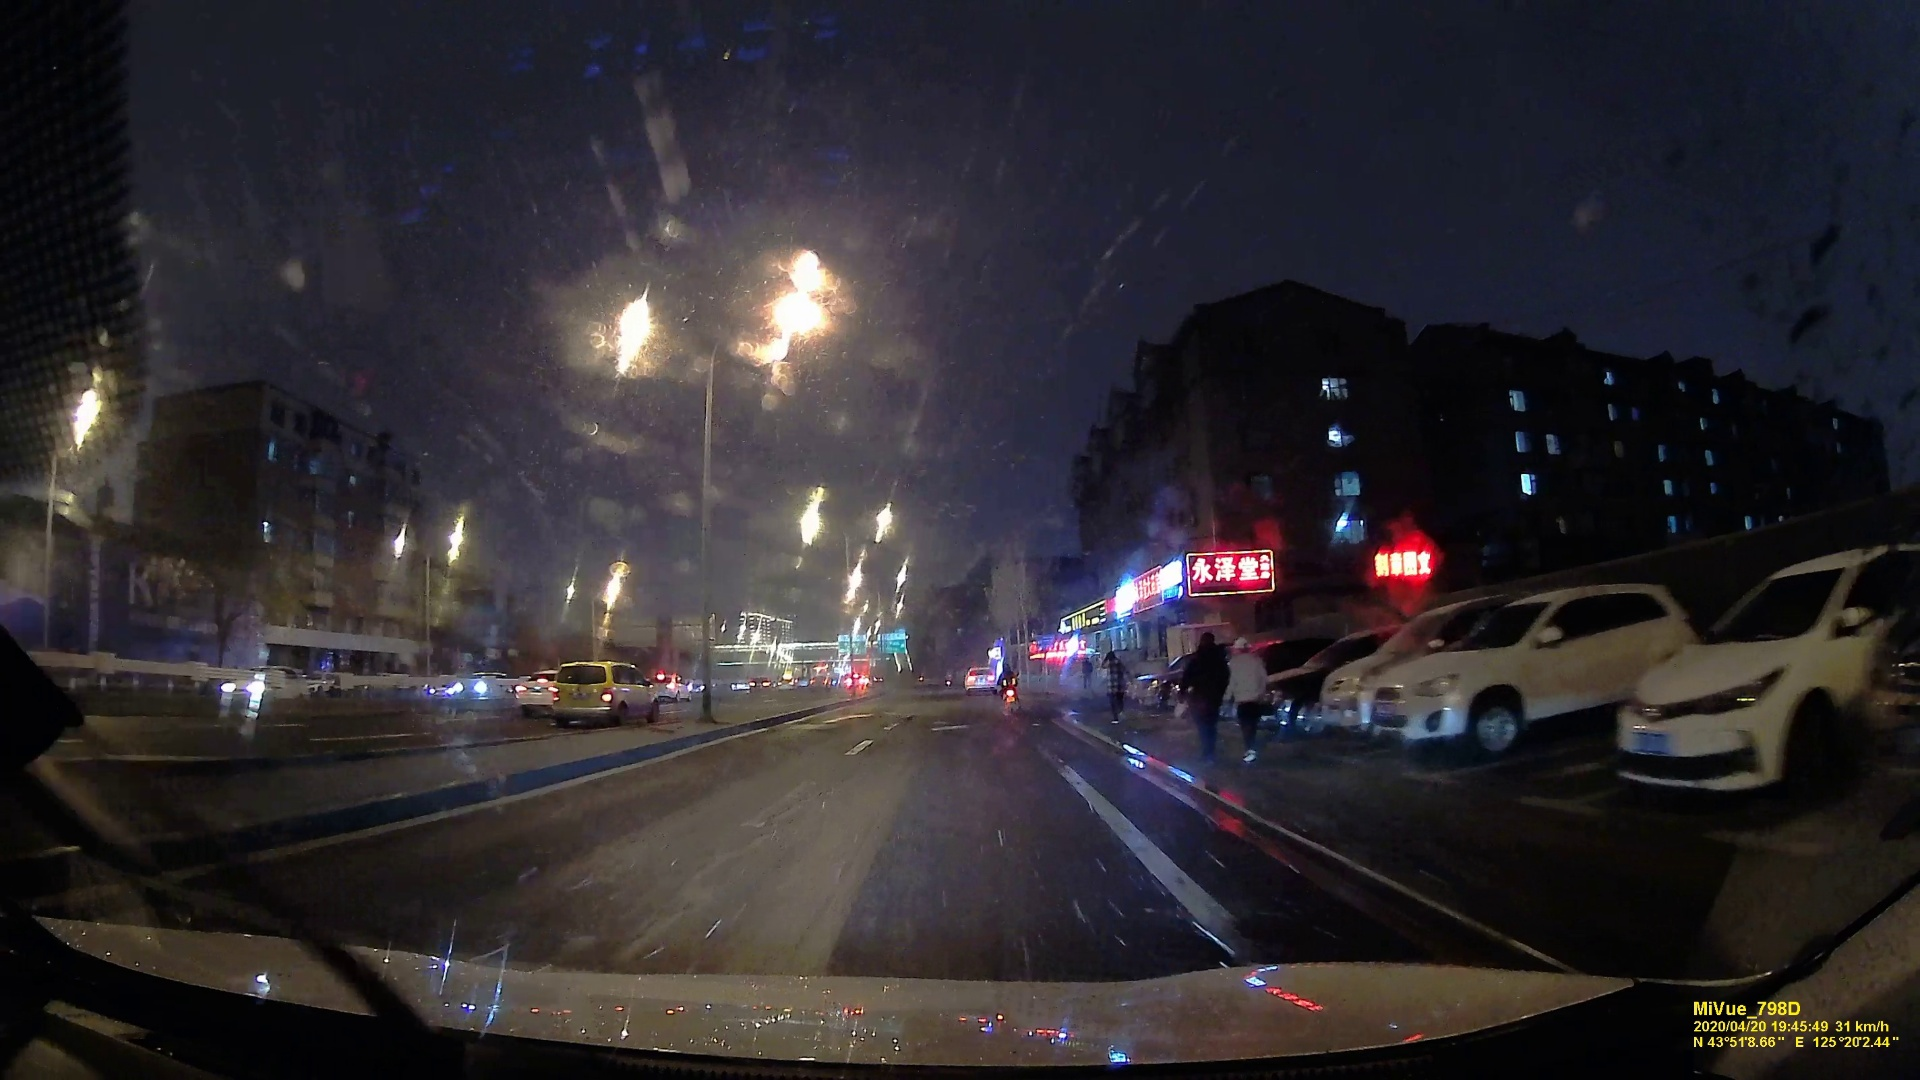person: (1175, 632, 1229, 760), (1223, 638, 1272, 763), (1104, 650, 1131, 729), (996, 663, 1020, 696), (1080, 656, 1094, 689)
traffic_sign: (876, 633, 906, 653), (838, 635, 864, 654)
vehicle: (1361, 589, 1661, 746), (550, 663, 657, 723), (442, 668, 512, 699), (515, 665, 556, 710), (965, 665, 996, 696)
